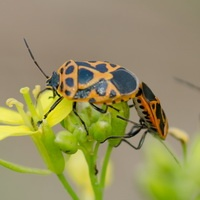insect: (18, 39, 178, 199), (109, 82, 176, 160)
